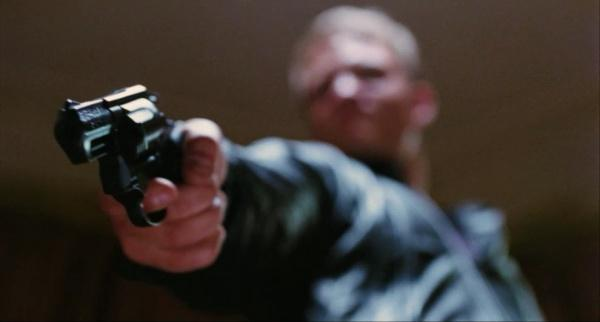Gun: (55, 82, 187, 227)
